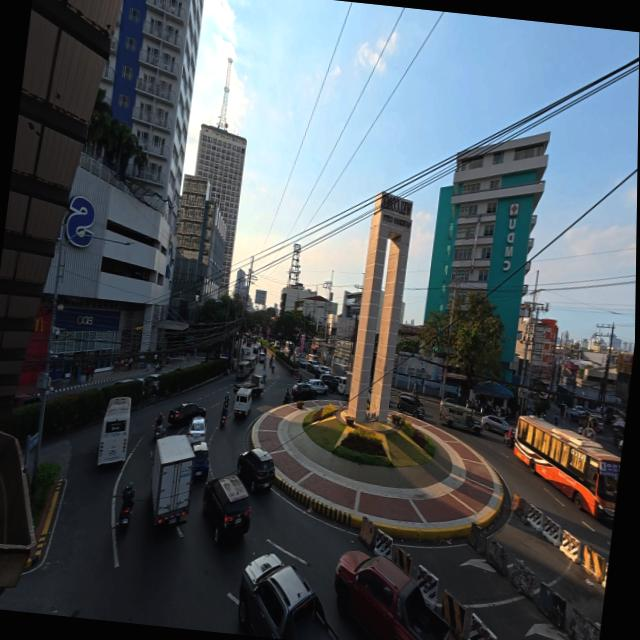car: (200, 469, 257, 548)
